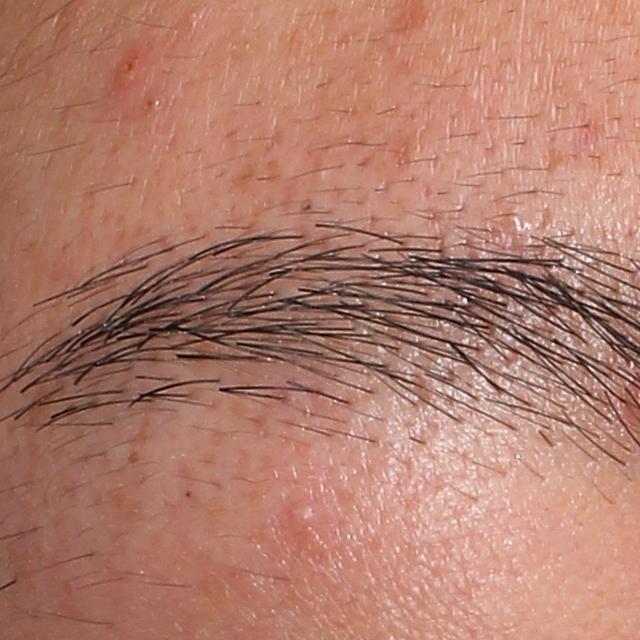papule: (285, 497, 330, 541), (113, 46, 148, 90)
